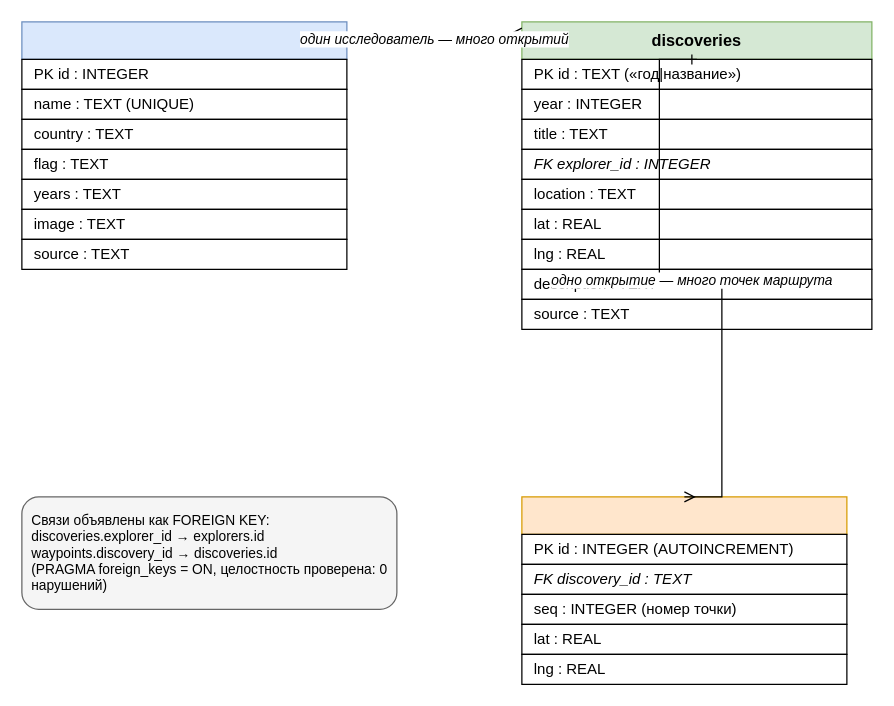
Image size: 894x706. Some labels were removed from this diagram. Each missing label, with the centre of its shape:
"explorers" belongs at point 184,40.
"waypoints" belongs at point 684,515.
